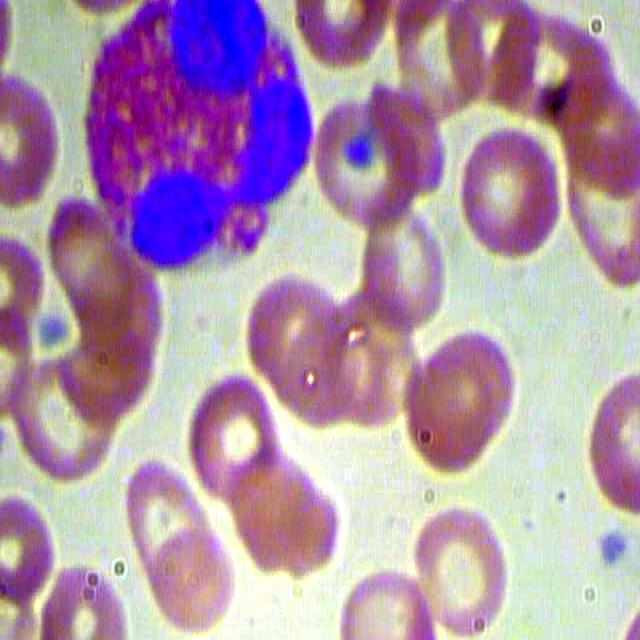Platelets: (591, 521, 632, 572), (36, 311, 74, 349)
RBC: (309, 87, 418, 224), (414, 327, 532, 453), (460, 120, 566, 260), (416, 495, 512, 637), (117, 458, 216, 586), (188, 365, 278, 499), (403, 353, 493, 479), (148, 522, 250, 626), (555, 52, 640, 176), (565, 156, 638, 299)
WBC: (72, 1, 327, 279)
